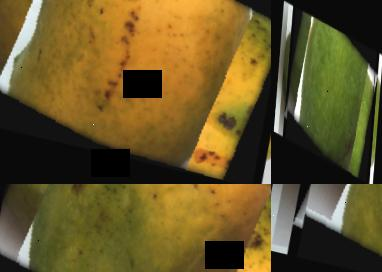PartiallyRipe: (0, 0, 271, 184), (0, 184, 271, 272), (288, 184, 382, 272)
Unripe: (283, 5, 379, 182)
